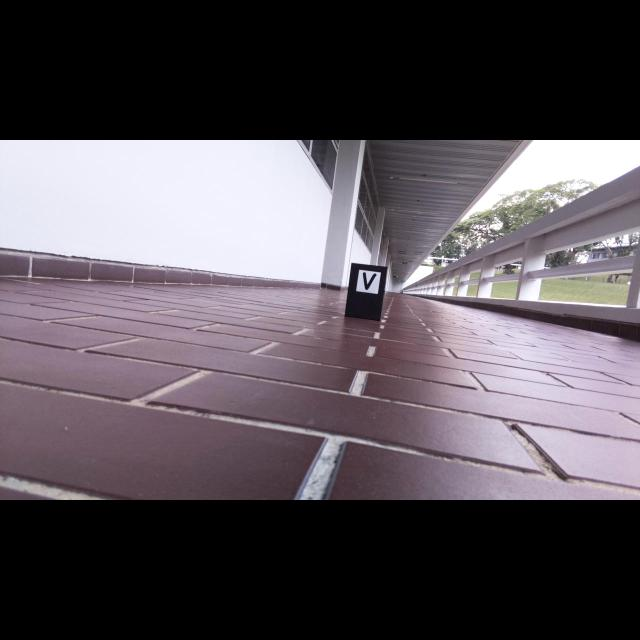V: (363, 272, 377, 290)
